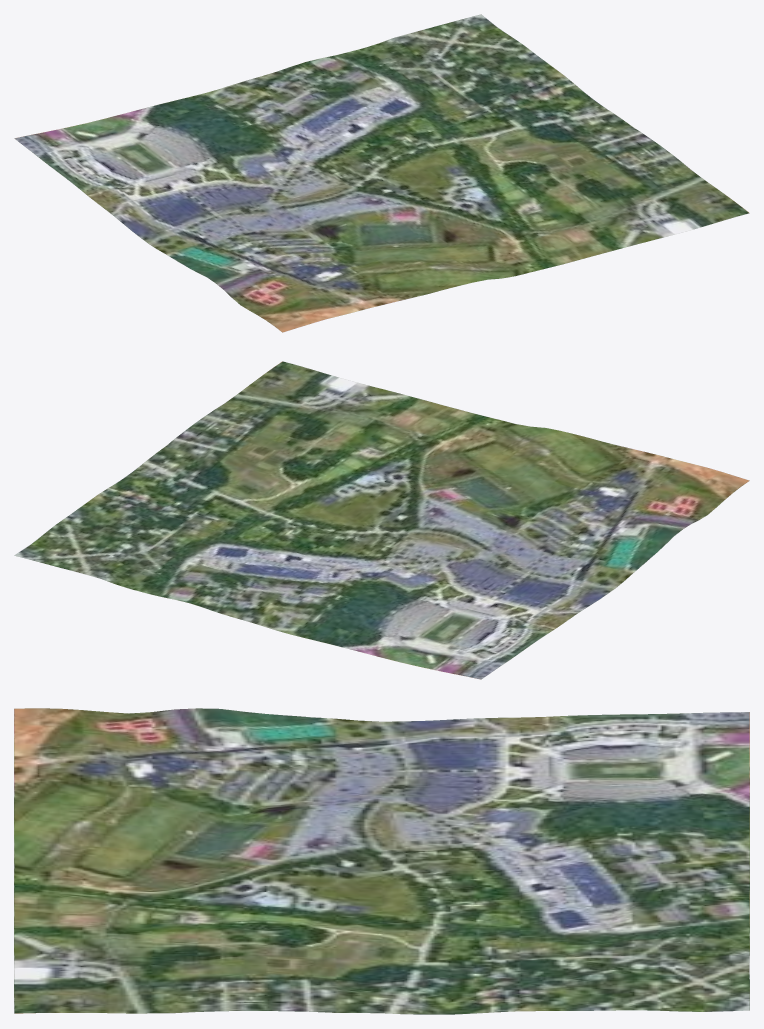
3 renders of one model, top to bottom at view 1: azimuth 30°, elevation 25°; view 2: azimuth 150°, elevation 25°; view 3: azimuth 270°, elevation 25°, orthographic. The views are drawn at different scales.
Bounding box in the file's own units: 975 × 34.65 × 971.
Materials: 1 (1 with a texture image).
